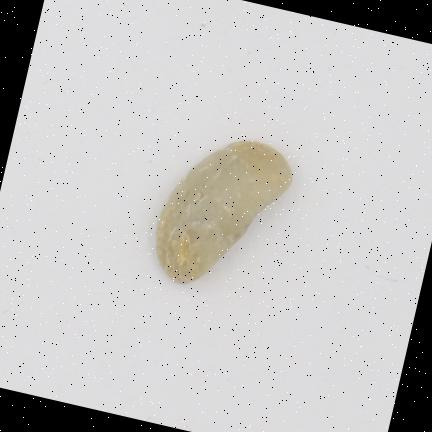shell: (156, 141, 290, 283)
